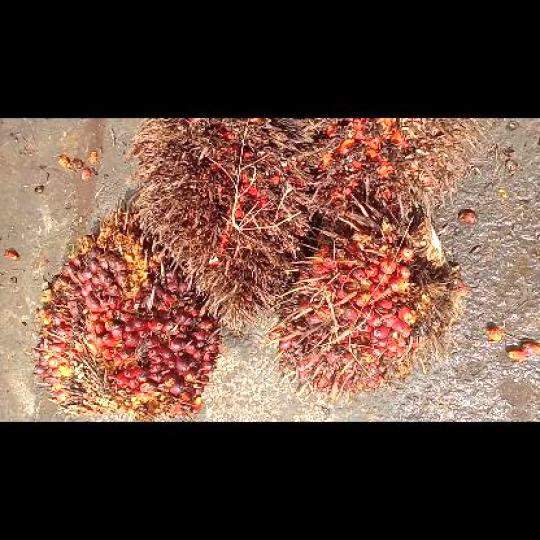masak: (31, 200, 222, 420), (264, 218, 466, 405)
terlalu masak: (124, 118, 320, 334), (305, 118, 484, 220)
